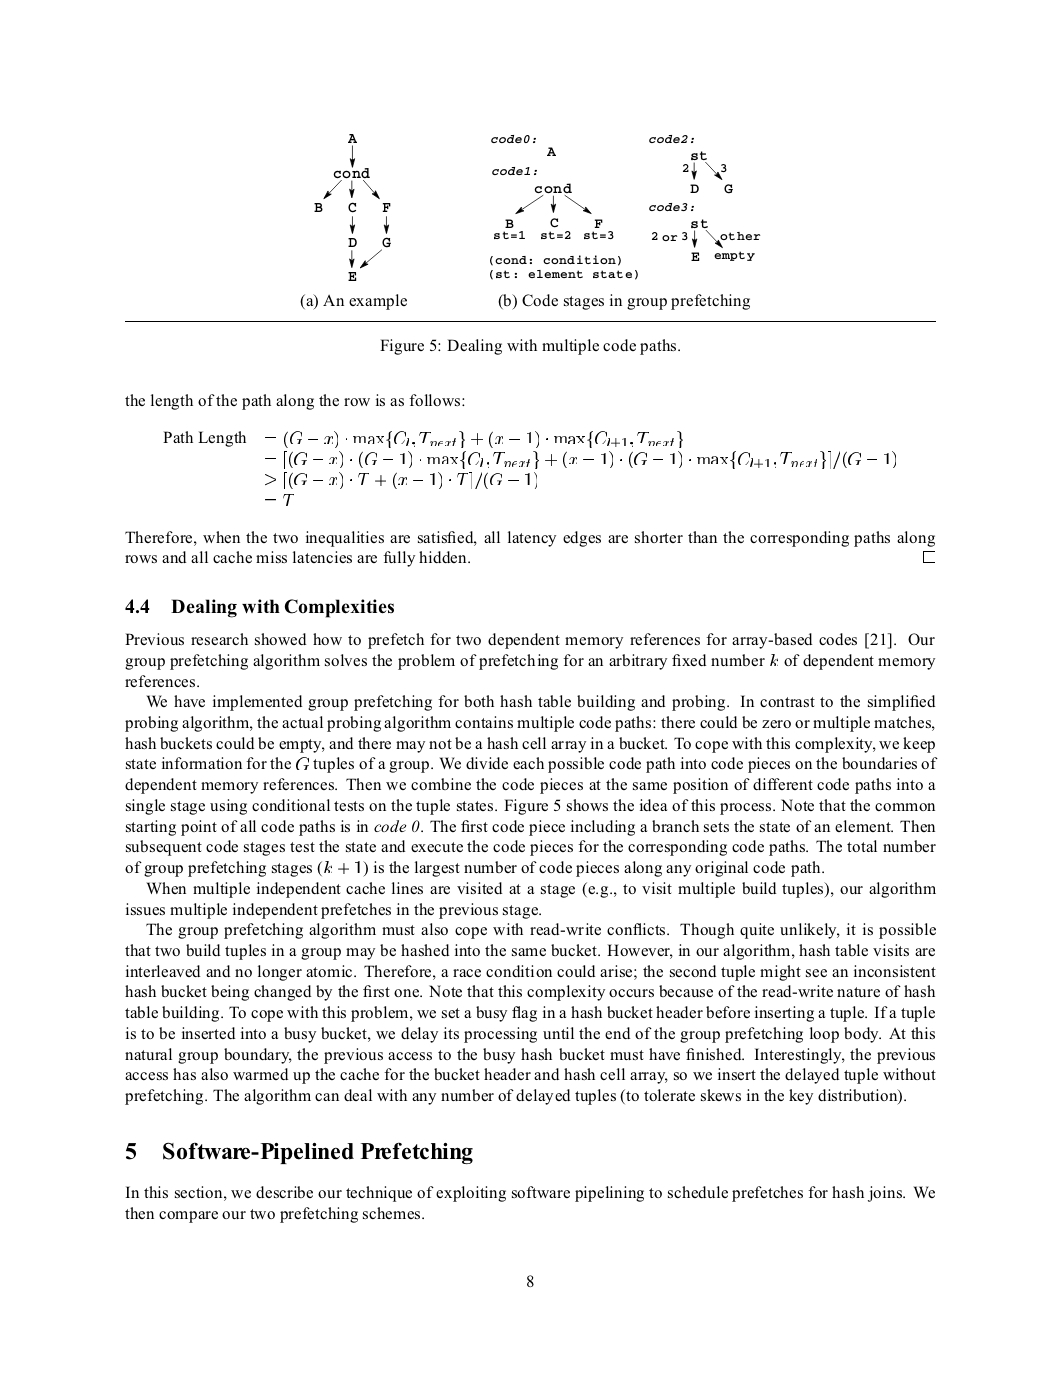figure: (490, 134, 760, 279), (314, 134, 390, 280)
formula: (163, 431, 895, 505)
